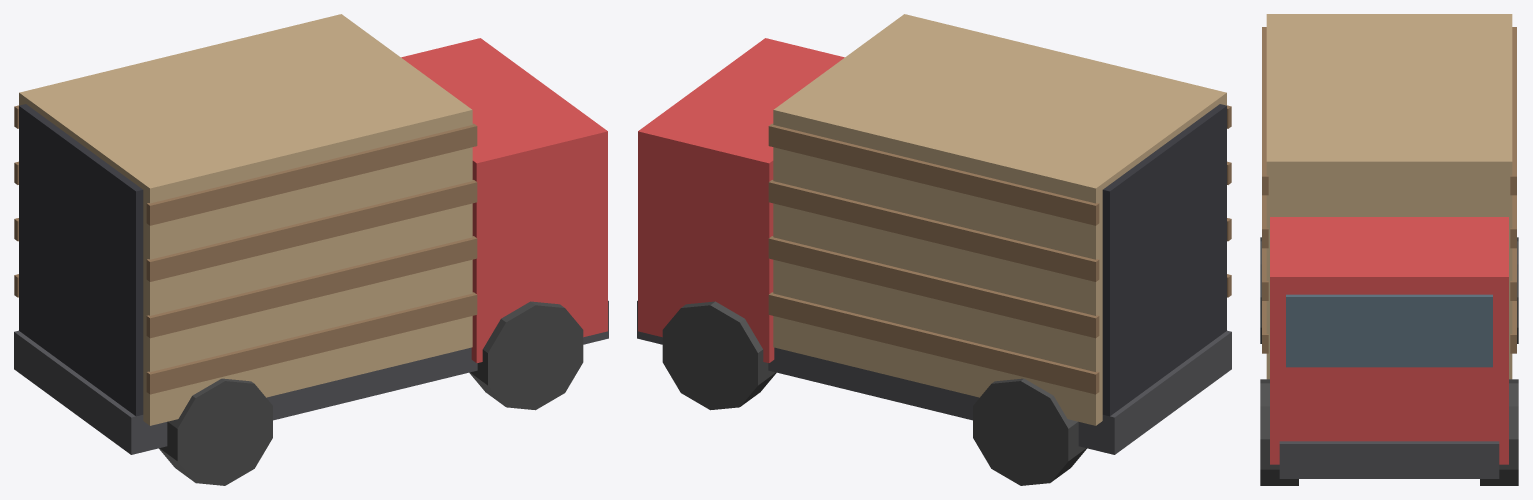
File: VJ_Camion.fbx
The picture shows the model from 3 angles, left to right: view 1: azimuth 30°, elevation 25°; view 2: azimuth 150°, elevation 25°; view 3: azimuth 270°, elevation 25°; orthographic projection. The views are drawn at different scales.
Visible parts, largest first — view 1: VJ_Camion; view 2: VJ_Camion; view 3: VJ_Camion.
Boxes of the visible parts, x1,y1,x2,y2 form: VJ_Camion: (14, 14, 608, 485); VJ_Camion: (637, 14, 1231, 485); VJ_Camion: (1260, 14, 1518, 485).
Bounding box in the file's own units: 4 × 2.5 × 2.
